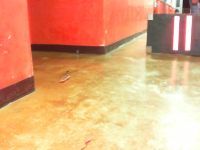switch: (172, 16, 180, 51), (185, 16, 192, 51)
